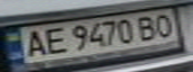0: (115, 16, 139, 44)
4: (87, 20, 106, 48)
7: (103, 18, 121, 46)
9: (66, 21, 90, 52)
A: (18, 28, 51, 58)
B: (133, 13, 163, 42)
E: (39, 25, 69, 56)
O: (151, 11, 178, 38)
